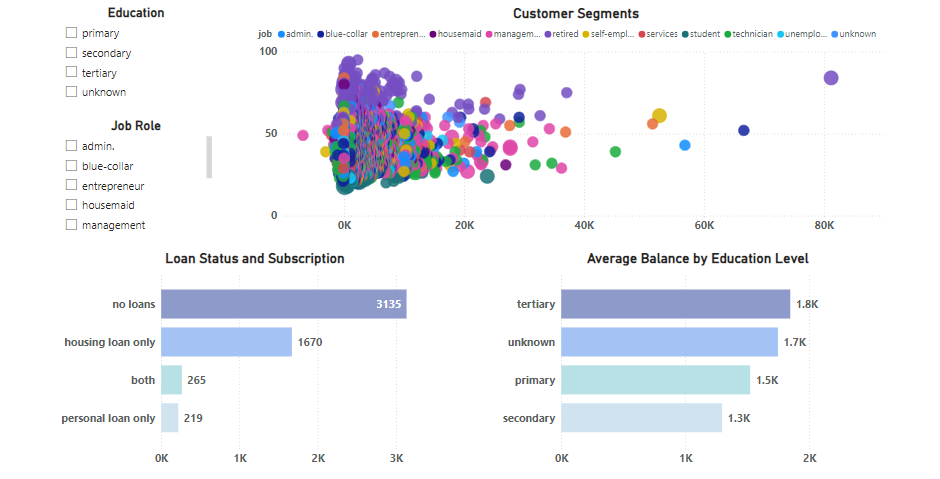

The dashboard page shown, as its layout file describes it:
{"tool":"powerbi","page":{"name":"Client Segmentation and Comparison","canvas":[1280,720],"ordinal":2},"visuals":[{"type":"barChart","title":"Average Balance by Education Level","fields":{"Category":["bank.education"],"Y":["bank.average_balance"]},"box":[676.1,376.1,588.3,327.8],"z":0},{"type":"scatterChart","title":"Customer Segments","fields":{"X":["bank.balance"],"Y":["bank.age"],"Series":["bank.job"],"Size":["CountNonNull(bank.education)"]},"box":[314.6,13.2,949.8,346.8],"z":1},{"type":"barChart","title":"Loan Status and Subscription","fields":{"Category":["bank.loan_status"],"Y":["bank.success_deposit"]},"box":[22,376.1,585.4,327.8],"z":2},{"type":"slicer","title":"Education","fields":{"Values":["bank.education"]},"box":[22,13.2,234.1,166.8],"z":3},{"type":"slicer","title":"Job Role","fields":{"Values":["bank.job"]},"box":[22,180,234.1,180],"z":4}]}

Visuals, with their boxes on the page's 1280x720 design canvas (x1, y1, x2, y2). These are canvas units, not pixel positions in the 940x479 screenshot, which may show the page scaled, cropped or inside an application window:
"Average Balance by Education Level" barChart: left=676, top=376, right=1264, bottom=704
"Customer Segments" scatterChart: left=315, top=13, right=1264, bottom=360
"Loan Status and Subscription" barChart: left=22, top=376, right=607, bottom=704
"Education" slicer: left=22, top=13, right=256, bottom=180
"Job Role" slicer: left=22, top=180, right=256, bottom=360
